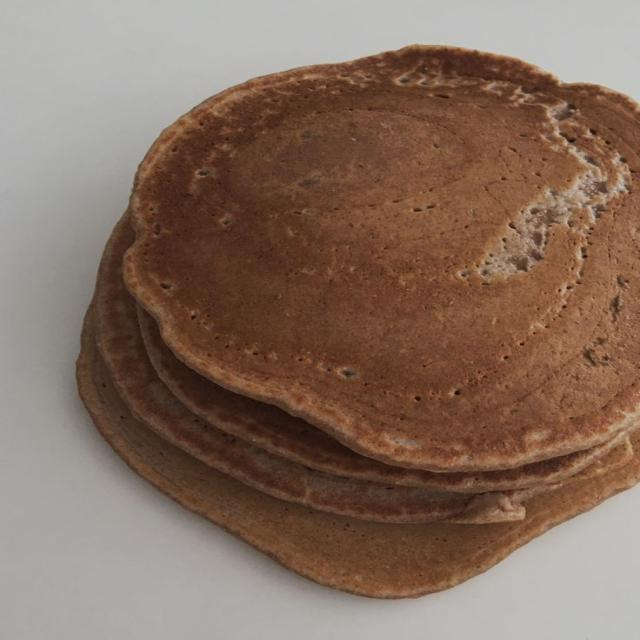pancake: (126, 47, 639, 471), (78, 313, 639, 598), (94, 216, 555, 523), (139, 306, 626, 492)
